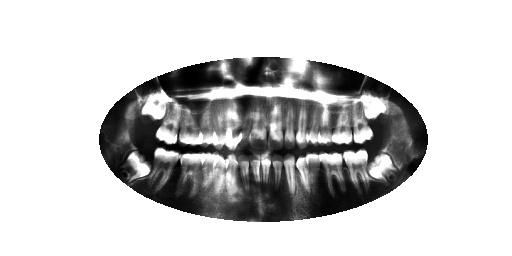i10decay: (238, 152, 251, 197)
i11chipped: (225, 152, 239, 206)
i12healthy: (212, 154, 227, 196)
i13healthy: (198, 152, 215, 194)
i14healthy: (176, 152, 202, 202)
i15healthy: (148, 147, 180, 191)
i16healthy: (117, 148, 153, 186)
i1healthy: (366, 152, 402, 184)
i2healthy: (342, 149, 371, 192)
i3healthy: (318, 152, 349, 199)
i4healthy: (305, 153, 321, 186)
i5healthy: (295, 154, 311, 194)
i6healthy: (284, 154, 297, 196)
i7decay: (273, 154, 284, 194)
i8decay: (262, 153, 273, 185)
i9decay: (250, 151, 262, 184)
u10loss: (241, 105, 253, 150)
u11decay: (227, 105, 243, 148)
u12healthy: (214, 105, 227, 149)
u13healthy: (200, 104, 214, 147)
u14healthy: (178, 105, 204, 150)
u15healthy: (156, 102, 181, 147)
u16healthy: (139, 90, 166, 122)
u1healthy: (359, 92, 392, 117)
u2healthy: (353, 100, 376, 146)
u3healthy: (331, 103, 354, 148)
u4healthy: (316, 104, 335, 149)
u5healthy: (306, 103, 320, 147)
u6healthy: (296, 100, 310, 150)
u7decay: (283, 100, 296, 152)
u8decay: (267, 99, 284, 153)
u9decay: (250, 104, 269, 149)
